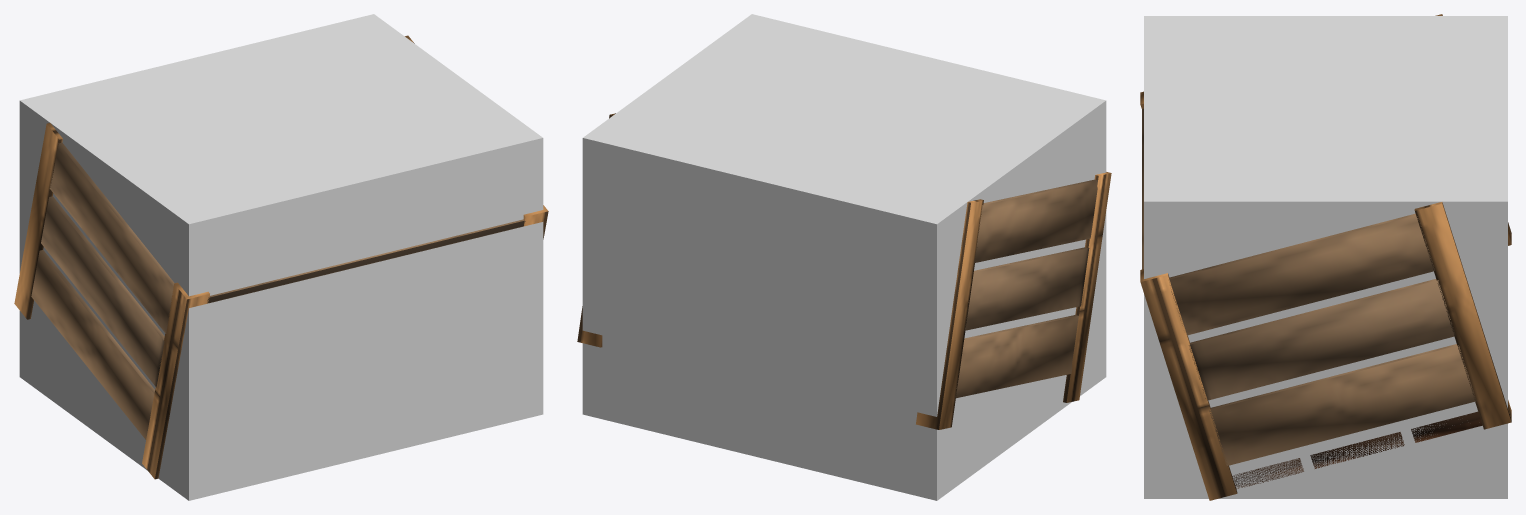
Rendered from FMS_Crate_Tilted.fbx.
The picture shows the model from 3 angles, left to right: view 1: azimuth 30°, elevation 25°; view 2: azimuth 150°, elevation 25°; view 3: azimuth 270°, elevation 25°; orthographic projection. The views are drawn at different scales.
Parts seen in each view (by area): view 1: Crate_Tilted_Col, Crate_Tilted_LOD0; view 2: Crate_Tilted_Col, Crate_Tilted_LOD0; view 3: Crate_Tilted_Col, Crate_Tilted_LOD0.
Boxes of the visible parts, x1=… form: Crate_Tilted_Col: x1=19, y1=14, x2=543, y2=500; Crate_Tilted_LOD0: x1=14, y1=35, x2=548, y2=479; Crate_Tilted_Col: x1=582, y1=14, x2=1106, y2=500; Crate_Tilted_LOD0: x1=577, y1=113, x2=1111, y2=429; Crate_Tilted_Col: x1=1144, y1=16, x2=1507, y2=498; Crate_Tilted_LOD0: x1=1140, y1=14, x2=1511, y2=500.
Size of what is drawn, in the model's own units: 50 by 36.56 by 41.36.
